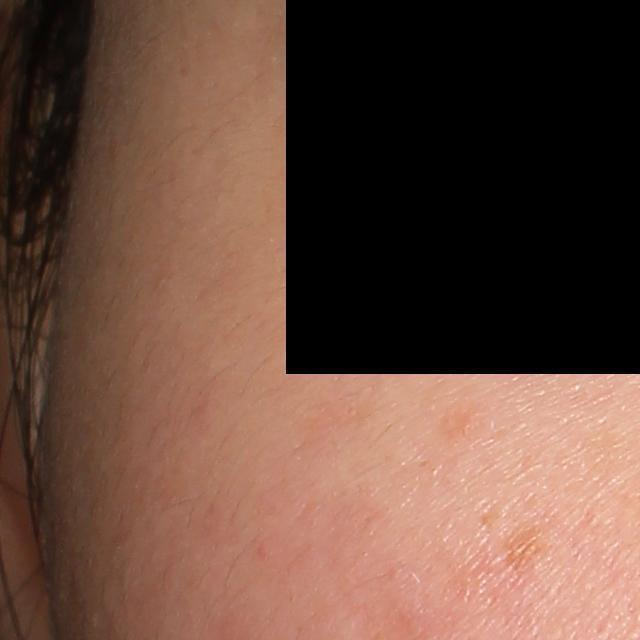melasma: (438, 403, 490, 448), (505, 532, 549, 580)
